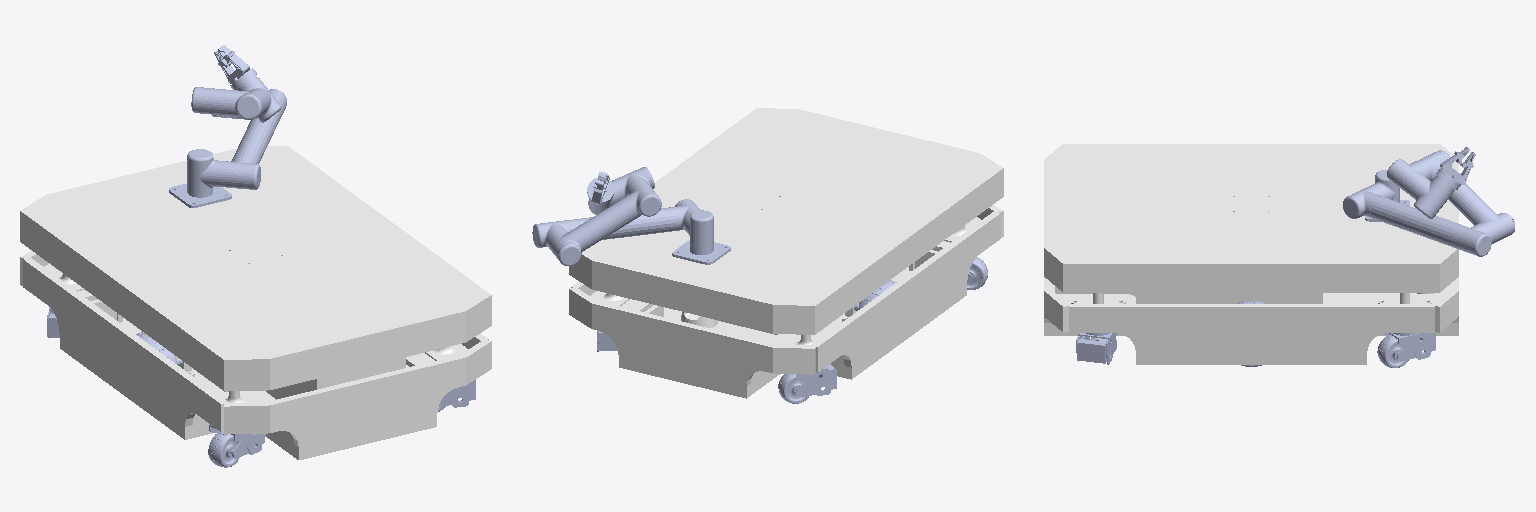
--- What the picture shows (computed from the rendered views, not written in the file) ---
The picture shows the robot from 3 angles, left to right: view 1: azimuth 30°, elevation 25°; view 2: azimuth 150°, elevation 25°; view 3: azimuth 270°, elevation 25°; orthographic projection.
Robot: agvurdf105 — 22 links, 21 joints (11 revolute, 5 continuous, 5 fixed); root link base; default pose: all joints at 0 but 1 set to mid-range because 0 is outside their limits (joint1 = -4).
Visible links, largest first — view 1: base, link2, link1, link3, link4, link6, ur10, bp4, linkbp4, link5, linkbp2; view 2: base, link3, link2, link1, linkbp3, ur10, link6, bp3, link4; view 3: base, link2, link3, link5, linkbp2, linkbp1, link4, link6, bp1.
Link boxes in pixels (x1,y1,x2,y2): base: [20, 146, 491, 459]; link2: [219, 89, 286, 189]; link1: [187, 149, 221, 192]; link3: [191, 87, 244, 119]; link4: [228, 90, 267, 119]; link6: [214, 45, 256, 89]; ur10: [169, 184, 231, 207]; bp4: [208, 432, 238, 467]; linkbp4: [209, 425, 265, 458]; link5: [237, 75, 281, 122]; linkbp2: [439, 380, 475, 407]; base: [569, 108, 1003, 398]; link3: [548, 181, 661, 265]; link2: [532, 199, 699, 248]; link1: [684, 210, 713, 250]; linkbp3: [795, 364, 836, 396]; ur10: [672, 240, 730, 264]; link6: [587, 171, 613, 204]; bp3: [778, 374, 808, 403]; link4: [615, 167, 654, 197]; base: [1044, 144, 1458, 364]; link2: [1343, 186, 1492, 256]; link3: [1418, 150, 1514, 243]; link5: [1411, 175, 1454, 218]; linkbp2: [1076, 333, 1116, 364]; linkbp1: [1384, 332, 1435, 361]; link4: [1387, 159, 1429, 195]; link6: [1436, 147, 1475, 189]; bp1: [1377, 335, 1408, 367].
Size in the robot's own frame: 0.5677 by 0.8754 by 0.4251 metres.
Meshes: 22 distinct files referenced, 22 mesh visuals loaded (22 binary STL).

robot.urdf — agvurdf105:
<?xml version="1.0" encoding="utf-8"?>
<!-- This URDF was automatically created by SolidWorks to URDF Exporter! Originally created by Stephen Brawner ([email redacted]) 
     Commit Version: 1.6.0-1-g15f4949  Build Version: 1.6.7594.29634
     For more information, please see http://wiki.ros.org/sw_urdf_exporter -->
<robot
  name="agvurdf105">
  <link
    name="base">
    <inertial>
      <origin
        xyz="0.267477618334827 -0.656827103060633 0.414562352931217"
        rpy="0 0 0" />
      <mass
        value="19.443300778032" />
      <inertia
        ixx="0.446819644512665"
        ixy="7.04283683372709E-07"
        ixz="2.18700527469743E-08"
        iyy="0.128806910514398"
        iyz="9.53698428759998E-07"
        izz="0.537326846655045" />
    </inertial>
    <visual>
      <origin
        xyz="0 0 0"
        rpy="0 0 0" />
      <geometry>
        <mesh
          filename="package://agvurdf105/meshes/base.STL" />
      </geometry>
      <material
        name="">
        <color
          rgba="1 1 1 1" />
      </material>
    </visual>
    <collision>
      <origin
        xyz="0 0 0"
        rpy="0 0 0" />
      <geometry>
        <mesh
          filename="package://agvurdf105/meshes/base.STL" />
      </geometry>
    </collision>
  </link>
  <link
    name="bchinh1">
    <inertial>
      <origin
        xyz="0.0797674207486164 -5.73364548395183E-07 3.4592532938138E-07"
        rpy="0 0 0" />
      <mass
        value="0.597832815380611" />
      <inertia
        ixx="0.00104674915101719"
        ixy="-3.25283307471418E-09"
        ixz="2.75150350511716E-09"
        iyy="0.000680797544035403"
        iyz="8.27213187136249E-09"
        izz="0.000680816136383611" />
    </inertial>
    <visual>
      <origin
        xyz="0 0 0"
        rpy="0 0 0" />
      <geometry>
        <mesh
          filename="package://agvurdf105/meshes/bchinh1.STL" />
      </geometry>
      <material
        name="">
        <color
          rgba="0.792156862745098 0.819607843137255 0.933333333333333 1" />
      </material>
    </visual>
    <collision>
      <origin
        xyz="0 0 0"
        rpy="0 0 0" />
      <geometry>
        <mesh
          filename="package://agvurdf105/meshes/bchinh1.STL" />
      </geometry>
    </collision>
  </link>
  <joint
    name="banh1"
    type="revolute">
    <origin
      xyz="0.39861 -0.5942 0.38553"
      rpy="2.4972 0 0" />
    <parent
      link="base" />
    <child
      link="bchinh1" />
    <axis
      xyz="1 0 0" />
    <limit
      lower="-4"
      upper="4"
      effort="20"
      velocity="1" />
    <dynamics
      damping="2"
      friction="2" />
  </joint>
  <link
    name="bchinh2">
    <inertial>
      <origin
        xyz="-0.0332325423207638 -5.51442441709682E-07 3.88780041882253E-07"
        rpy="0 0 0" />
      <mass
        value="0.597832236823257" />
      <inertia
        ixx="0.00104674919669424"
        ixy="-3.27522462262069E-09"
        ixz="2.7602611676384E-09"
        iyy="0.000680797594373258"
        iyz="8.29406440059497E-09"
        izz="0.000680816144487321" />
    </inertial>
    <visual>
      <origin
        xyz="0 0 0"
        rpy="0 0 0" />
      <geometry>
        <mesh
          filename="package://agvurdf105/meshes/bchinh2.STL" />
      </geometry>
      <material
        name="">
        <color
          rgba="0.792156862745098 0.819607843137255 0.933333333333333 1" />
      </material>
    </visual>
    <collision>
      <origin
        xyz="0 0 0"
        rpy="0 0 0" />
      <geometry>
        <mesh
          filename="package://agvurdf105/meshes/bchinh2.STL" />
      </geometry>
    </collision>
  </link>
  <joint
    name="banh2"
    type="revolute">
    <origin
      xyz="0.025614 -0.5942 0.38553"
      rpy="-3.1224 0 3.1416" />
    <parent
      link="base" />
    <child
      link="bchinh2" />
    <axis
      xyz="1 0 0" />
    <limit
      lower="-4"
      upper="4"
      effort="20"
      velocity="1" />
    <dynamics
      damping="2"
      friction="2" />
  </joint>
  <link
    name="bphu1">
    <inertial>
      <origin
        xyz="0 -0.00173512867251724 0"
        rpy="0 0 0" />
      <mass
        value="0.048165597678071" />
      <inertia
        ixx="2.23785467678531E-05"
        ixy="-4.1282822947913E-23"
        ixz="-3.3292548367986E-20"
        iyy="5.64406148404847E-05"
        iyz="1.01819135798511E-23"
        izz="3.61208137584202E-05" />
    </inertial>
    <visual>
      <origin
        xyz="0 0 0"
        rpy="0 0 0" />
      <geometry>
        <mesh
          filename="package://agvurdf105/meshes/bphu1.STL" />
      </geometry>
      <material
        name="">
        <color
          rgba="0.792156862745098 0.819607843137255 0.933333333333333 1" />
      </material>
    </visual>
    <collision>
      <origin
        xyz="0 0 0"
        rpy="0 0 0" />
      <geometry>
        <mesh
          filename="package://agvurdf105/meshes/bphu1.STL" />
      </geometry>
    </collision>
  </link>
  <joint
    name="banhp1"
    type="fixed">
    <origin
      xyz="0.47611 -0.3092 0.41953"
      rpy="1.5708 0 1.5708" />
    <parent
      link="base" />
    <child
      link="bphu1" />
    <axis
      xyz="0 0 0" />
  </joint>
  <link
    name="linkbp1">
    <inertial>
      <origin
        xyz="-0.00617677641709502 -0.0358398173875589 0.00518685509486075"
        rpy="0 0 0" />
      <mass
        value="0.114257387372318" />
      <inertia
        ixx="6.34571166352206E-05"
        ixy="-3.62439447488159E-06"
        ixz="-2.34583618434929E-07"
        iyy="8.05860290746564E-05"
        iyz="-5.080649693722E-07"
        izz="5.9910521336905E-05" />
    </inertial>
    <visual>
      <origin
        xyz="0 0 0"
        rpy="0 0 0" />
      <geometry>
        <mesh
          filename="package://agvurdf105/meshes/linkbp1.STL" />
      </geometry>
      <material
        name="">
        <color
          rgba="0.792156862745098 0.819607843137255 0.933333333333333 1" />
      </material>
    </visual>
    <collision>
      <origin
        xyz="0 0 0"
        rpy="0 0 0" />
      <geometry>
        <mesh
          filename="package://agvurdf105/meshes/linkbp1.STL" />
      </geometry>
    </collision>
  </link>
  <joint
    name="jbp1"
    type="continuous">
    <origin
      xyz="0.01 0 0"
      rpy="3.14159265358979 -0.547967558025908 3.14159265358979" />
    <parent
      link="bphu1" />
    <child
      link="linkbp1" />
    <axis
      xyz="0 1 0" />
  </joint>
  <link
    name="bp1">
    <inertial>
      <origin
        xyz="0.00548428858717928 9.97438591721078E-08 -7.52742982057519E-07"
        rpy="0 0 0" />
      <mass
        value="0.0726271521733352" />
      <inertia
        ixx="3.58320530073967E-05"
        ixy="1.1750871191831E-10"
        ixz="-9.14672268149594E-11"
        iyy="2.23018430138028E-05"
        iyz="-2.03994864241253E-10"
        izz="2.23019031302214E-05" />
    </inertial>
    <visual>
      <origin
        xyz="0 0 0"
        rpy="0 0 0" />
      <geometry>
        <mesh
          filename="package://agvurdf105/meshes/bp1.STL" />
      </geometry>
      <material
        name="">
        <color
          rgba="0.792156862745098 0.819607843137255 0.933333333333333 1" />
      </material>
    </visual>
    <collision>
      <origin
        xyz="0 0 0"
        rpy="0 0 0" />
      <geometry>
        <mesh
          filename="package://agvurdf105/meshes/bp1.STL" />
      </geometry>
    </collision>
  </link>
  <joint
    name="bp1"
    type="revolute">
    <origin
      xyz="0.031036 -0.06543 0"
      rpy="0.29396 -1.5708 -0.29568" />
    <parent
      link="linkbp1" />
    <child
      link="bp1" />
    <axis
      xyz="1 0 0" />
    <limit
      lower="-4"
      upper="4"
      effort="0"
      velocity="0" />
  </joint>
  <link
    name="bphu2">
    <inertial>
      <origin
        xyz="1.11022302462516E-16 -0.00173512867251724 0"
        rpy="0 0 0" />
      <mass
        value="0.048165597678071" />
      <inertia
        ixx="2.23785467678531E-05"
        ixy="-7.91930310749027E-23"
        ixz="-2.27241722811059E-19"
        iyy="5.64406148404846E-05"
        iyz="2.28409602871977E-23"
        izz="3.61208137584202E-05" />
    </inertial>
    <visual>
      <origin
        xyz="0 0 0"
        rpy="0 0 0" />
      <geometry>
        <mesh
          filename="package://agvurdf105/meshes/bphu2.STL" />
      </geometry>
      <material
        name="">
        <color
          rgba="0.792156862745098 0.819607843137255 0.933333333333333 1" />
      </material>
    </visual>
    <collision>
      <origin
        xyz="0 0 0"
        rpy="0 0 0" />
      <geometry>
        <mesh
          filename="package://agvurdf105/meshes/bphu2.STL" />
      </geometry>
    </collision>
  </link>
  <joint
    name="banhp2"
    type="fixed">
    <origin
      xyz="0.476113744053953 -0.879202901304281 0.419533078366042"
      rpy="1.5707963267949 0 1.5707963267949" />
    <parent
      link="base" />
    <child
      link="bphu2" />
    <axis
      xyz="0 0 0" />
  </joint>
  <link
    name="linkbp2">
    <inertial>
      <origin
        xyz="-0.0173963547118563 -0.0358398173875772 -0.00965583082141919"
        rpy="0 0 0" />
      <mass
        value="0.114257387372318" />
      <inertia
        ixx="6.34571166352199E-05"
        ixy="-3.62439447488278E-06"
        ixz="-2.34583618434789E-07"
        iyy="8.05860290746565E-05"
        iyz="-5.08064969372119E-07"
        izz="5.99105213369047E-05" />
    </inertial>
    <visual>
      <origin
        xyz="0 0 0"
        rpy="0 0 0" />
      <geometry>
        <mesh
          filename="package://agvurdf105/meshes/linkbp2.STL" />
      </geometry>
      <material
        name="">
        <color
          rgba="0.792156862745098 0.819607843137255 0.933333333333333 1" />
      </material>
    </visual>
    <collision>
      <origin
        xyz="0 0 0"
        rpy="0 0 0" />
      <geometry>
        <mesh
          filename="package://agvurdf105/meshes/linkbp2.STL" />
      </geometry>
    </collision>
  </link>
  <joint
    name="jbp2"
    type="continuous">
    <origin
      xyz="0.01 0 0"
      rpy="0 1.29909292552263 0" />
    <parent
      link="bphu2" />
    <child
      link="linkbp2" />
    <axis
      xyz="0 1 0" />
  </joint>
  <link
    name="bp2">
    <inertial>
      <origin
        xyz="-0.0093583982201465 9.55880134489995E-08 -7.51185361358431E-07"
        rpy="0 0 0" />
      <mass
        value="0.0726271557950019" />
      <inertia
        ixx="3.58320539848372E-05"
        ixy="1.19126244069086E-10"
        ixz="-9.08342456740752E-11"
        iyy="2.23018408664583E-05"
        iyz="-2.12021323796501E-10"
        izz="2.23019063481509E-05" />
    </inertial>
    <visual>
      <origin
        xyz="0 0 0"
        rpy="0 0 0" />
      <geometry>
        <mesh
          filename="package://agvurdf105/meshes/bp2.STL" />
      </geometry>
      <material
        name="">
        <color
          rgba="0.792156862745098 0.819607843137255 0.933333333333333 1" />
      </material>
    </visual>
    <collision>
      <origin
        xyz="0 0 0"
        rpy="0 0 0" />
      <geometry>
        <mesh
          filename="package://agvurdf105/meshes/bp2.STL" />
      </geometry>
    </collision>
  </link>
  <joint
    name="bp2"
    type="revolute">
    <origin
      xyz="0.0198162726250184 -0.0654300000000542 0"
      rpy="0.133952495949054 -1.5707963267949 0" />
    <parent
      link="linkbp2" />
    <child
      link="bp2" />
    <axis
      xyz="1 0 0" />
    <limit
      lower="-4"
      upper="4"
      effort="0"
      velocity="0" />
  </joint>
  <link
    name="bphu3">
    <inertial>
      <origin
        xyz="0 -0.00173512867251724 0"
        rpy="0 0 0" />
      <mass
        value="0.048165597678071" />
      <inertia
        ixx="2.23785467678531E-05"
        ixy="4.89452027298181E-23"
        ixz="-4.58690116376147E-20"
        iyy="5.64406148404847E-05"
        iyz="6.50103152319964E-24"
        izz="3.61208137584202E-05" />
    </inertial>
    <visual>
      <origin
        xyz="0 0 0"
        rpy="0 0 0" />
      <geometry>
        <mesh
          filename="package://agvurdf105/meshes/bphu3.STL" />
      </geometry>
      <material
        name="">
        <color
          rgba="0.792156862745098 0.819607843137255 0.933333333333333 1" />
      </material>
    </visual>
    <collision>
      <origin
        xyz="0 0 0"
        rpy="0 0 0" />
      <geometry>
        <mesh
          filename="package://agvurdf105/meshes/bphu3.STL" />
      </geometry>
    </collision>
  </link>
  <joint
    name="banhp3"
    type="fixed">
    <origin
      xyz="0.0611137440539526 -0.309202901304281 0.419533078366042"
      rpy="1.5707963267949 0 1.5707963267949" />
    <parent
      link="base" />
    <child
      link="bphu3" />
    <axis
      xyz="0 0 0" />
  </joint>
  <link
    name="linkbp3">
    <inertial>
      <origin
        xyz="-0.0226154519084126 -0.0358398173875543 0.0049167107004528"
        rpy="0 0 0" />
      <mass
        value="0.114257387372317" />
      <inertia
        ixx="6.34571166352197E-05"
        ixy="-3.62439447488186E-06"
        ixz="-2.34583618434877E-07"
        iyy="8.05860290746559E-05"
        iyz="-5.08064969372411E-07"
        izz="5.99105213369042E-05" />
    </inertial>
    <visual>
      <origin
        xyz="0 0 0"
        rpy="0 0 0" />
      <geometry>
        <mesh
          filename="package://agvurdf105/meshes/linkbp3.STL" />
      </geometry>
      <material
        name="">
        <color
          rgba="0.792156862745098 0.819607843137255 0.933333333333333 1" />
      </material>
    </visual>
    <collision>
      <origin
        xyz="0 0 0"
        rpy="0 0 0" />
      <geometry>
        <mesh
          filename="package://agvurdf105/meshes/linkbp3.STL" />
      </geometry>
    </collision>
  </link>
  <joint
    name="jbp3"
    type="continuous">
    <origin
      xyz="0.01 0 0"
      rpy="0 -0.659526494459053 0" />
    <parent
      link="bphu3" />
    <child
      link="linkbp3" />
    <axis
      xyz="0 1 0" />
  </joint>
  <link
    name="bp3">
    <inertial>
      <origin
        xyz="0.00340218074527618 9.7061702619694E-08 -7.51595165493502E-07"
        rpy="0 0 0" />
      <mass
        value="0.0726271555796053" />
      <inertia
        ixx="3.58320539433918E-05"
        ixy="1.18513839971375E-10"
        ixz="-9.11230038687106E-11"
        iyy="2.23018421047147E-05"
        iyz="-2.09174145745195E-10"
        izz="2.23019050543166E-05" />
    </inertial>
    <visual>
      <origin
        xyz="0 0 0"
        rpy="0 0 0" />
      <geometry>
        <mesh
          filename="package://agvurdf105/meshes/bp3.STL" />
      </geometry>
      <material
        name="">
        <color
          rgba="0.792156862745098 0.819607843137255 0.933333333333333 1" />
      </material>
    </visual>
    <collision>
      <origin
        xyz="0 0 0"
        rpy="0 0 0" />
      <geometry>
        <mesh
          filename="package://agvurdf105/meshes/bp3.STL" />
      </geometry>
    </collision>
  </link>
  <joint
    name="bp3"
    type="revolute">
    <origin
      xyz="0.0145971754284785 -0.0654300000000004 0"
      rpy="3.05625695459658 -1.5707963267949 0" />
    <parent
      link="linkbp3" />
    <child
      link="bp3" />
    <axis
      xyz="1 0 0" />
    <limit
      lower="-4"
      upper="4"
      effort="0"
      velocity="0" />
  </joint>
  <link
    name="bphu4">
    <inertial>
      <origin
        xyz="-2.22044604925031E-16 -0.00173512867251718 6.93889390390723E-18"
        rpy="0 0 0" />
      <mass
        value="0.048165597678071" />
      <inertia
        ixx="2.23785467678531E-05"
        ixy="6.92044003096395E-23"
        ixz="-4.57017288435548E-20"
        iyy="5.64406148404847E-05"
        iyz="2.89501199341393E-23"
        izz="3.61208137584202E-05" />
    </inertial>
    <visual>
      <origin
        xyz="0 0 0"
        rpy="0 0 0" />
      <geometry>
        <mesh
          filename="package://agvurdf105/meshes/bphu4.STL" />
      </geometry>
      <material
        name="">
        <color
          rgba="0.792156862745098 0.819607843137255 0.933333333333333 1" />
      </material>
    </visual>
    <collision>
      <origin
        xyz="0 0 0"
        rpy="0 0 0" />
      <geometry>
        <mesh
          filename="package://agvurdf105/meshes/bphu4.STL" />
      </geometry>
    </collision>
  </link>
  <joint
    name="banhp4"
    type="fixed">
    <origin
      xyz="0.0611137440539523 -0.879202901304281 0.419533078366042"
      rpy="1.5707963267949 0 1.5707963267949" />
    <parent
      link="base" />
    <child
      link="bphu4" />
    <axis
      xyz="0 0 0" />
  </joint>
  <link
    name="linkbp4">
    <inertial>
      <origin
        xyz="-0.011570457547936 -0.0358398173875539 -0.00951619128780645"
        rpy="0 0 0" />
      <mass
        value="0.114257387372317" />
      <inertia
        ixx="6.34571166352197E-05"
        ixy="-3.62439447488175E-06"
        ixz="-2.34583618435016E-07"
        iyy="8.0586029074656E-05"
        iyz="-5.08064969372299E-07"
        izz="5.99105213369044E-05" />
    </inertial>
    <visual>
      <origin
        xyz="0 0 0"
        rpy="0 0 0" />
      <geometry>
        <mesh
          filename="package://agvurdf105/meshes/linkbp4.STL" />
      </geometry>
      <material
        name="">
        <color
          rgba="0.792156862745098 0.819607843137255 0.933333333333333 1" />
      </material>
    </visual>
    <collision>
      <origin
        xyz="0 0 0"
        rpy="0 0 0" />
      <geometry>
        <mesh
          filename="package://agvurdf105/meshes/linkbp4.STL" />
      </geometry>
    </collision>
  </link>
  <joint
    name="jbp4"
    type="continuous">
    <origin
      xyz="0.01 0 0"
      rpy="3.14159265358979 1.25116458148953 3.14159265358979" />
    <parent
      link="bphu4" />
    <child
      link="linkbp4" />
    <axis
      xyz="0 1 0" />
  </joint>
  <link
    name="bp4">
    <inertial>
      <origin
        xyz="-0.00921875829826735 9.78950709384918E-08 -7.47259863570493E-07"
        rpy="0 0 0" />
      <mass
        value="0.0726271892907674" />
      <inertia
        ixx="3.5832064033052E-05"
        ixy="1.16893406243337E-10"
        ixz="-9.33203659717243E-11"
        iyy="2.23018579639734E-05"
        iyz="-2.0746977069453E-10"
        izz="2.23018998695872E-05" />
    </inertial>
    <visual>
      <origin
        xyz="0 0 0"
        rpy="0 0 0" />
      <geometry>
        <mesh
          filename="package://agvurdf105/meshes/bp4.STL" />
      </geometry>
      <material
        name="">
        <color
          rgba="0.792156862745098 0.819607843137255 0.933333333333333 1" />
      </material>
    </visual>
    <collision>
      <origin
        xyz="0 0 0"
        rpy="0 0 0" />
      <geometry>
        <mesh
          filename="package://agvurdf105/meshes/bp4.STL" />
      </geometry>
    </collision>
  </link>
  <joint
    name="bp4"
    type="revolute">
    <origin
      xyz="0.0256421697889556 -0.0654299999999998 0"
      rpy="2.26327581951186 -1.5707963267949 0" />
    <parent
      link="linkbp4" />
    <child
      link="bp4" />
    <axis
      xyz="1 0 0" />
    <limit
      lower="-4"
      upper="4"
      effort="0"
      velocity="0" />
  </joint>
  <link
    name="ur10">
    <inertial>
      <origin
        xyz="-2.77555756156289E-16 0.00230257693813485 -1.11022302462516E-16"
        rpy="0 0 0" />
      <mass
        value="0.0364089378591594" />
      <inertia
        ixx="2.1029948904954E-05"
        ixy="2.41261439305053E-21"
        ixz="-3.18981523715751E-20"
        iyy="4.18104005460012E-05"
        iyz="6.99182024269061E-22"
        izz="2.1029948904954E-05" />
    </inertial>
    <visual>
      <origin
        xyz="0 0 0"
        rpy="0 0 0" />
      <geometry>
        <mesh
          filename="package://agvurdf105/meshes/ur10.STL" />
      </geometry>
      <material
        name="">
        <color
          rgba="0.792156862745098 0.819607843137255 0.933333333333333 1" />
      </material>
    </visual>
    <collision>
      <origin
        xyz="0 0 0"
        rpy="0 0 0" />
      <geometry>
        <mesh
          filename="package://agvurdf105/meshes/ur10.STL" />
      </geometry>
    </collision>
  </link>
  <joint
    name="ur"
    type="fixed">
    <origin
      xyz="0.304113744053951 -0.341702901304287 0.559533078366042"
      rpy="-1.5707963267949 0 1.5707963267949" />
    <parent
      link="base" />
    <child
      link="ur10" />
    <axis
      xyz="0 0 0" />
  </joint>
  <link
    name="link1">
    <inertial>
      <origin
        xyz="0.00242858722447592 -0.0468552073229127 1.02546085278821E-06"
        rpy="0 0 0" />
      <mass
        value="0.0284317625502586" />
      <inertia
        ixx="1.3042832010191E-05"
        ixy="1.71082117518441E-07"
        ixz="-1.29379473745037E-10"
        iyy="1.34492369003028E-05"
        iyz="4.203094470609E-11"
        izz="1.40510841682619E-05" />
    </inertial>
    <visual>
      <origin
        xyz="0 0 0"
        rpy="0 0 0" />
      <geometry>
        <mesh
          filename="package://agvurdf105/meshes/link1.STL" />
      </geometry>
      <material
        name="">
        <color
          rgba="0.792156862745098 0.819607843137255 0.929411764705882 1" />
      </material>
    </visual>
    <collision>
      <origin
        xyz="0 0 0"
        rpy="0 0 0" />
      <geometry>
        <mesh
          filename="package://agvurdf105/meshes/link1.STL" />
      </geometry>
    </collision>
  </link>
  <joint
    name="joint1"
    type="revolute">
    <origin
      xyz="0 0 0"
      rpy="0 0.016264 0" />
    <parent
      link="ur10" />
    <child
      link="link1" />
    <axis
      xyz="0 1 0" />
    <limit
      lower="-4"
      upper="-4"
      effort="5"
      velocity="1" />
    <dynamics
      damping="1"
      friction="1" />
  </joint>
  <link
    name="link2">
    <inertial>
      <origin
        xyz="0.138826186828985 -0.0394636139180599 5.26657159549693E-07"
        rpy="0 0 0" />
      <mass
        value="0.113010122911117" />
      <inertia
        ixx="5.24555107635127E-05"
        ixy="-1.62877854258062E-13"
        ixz="-1.63925720161292E-10"
        iyy="0.000242437230724777"
        iyz="-8.98067013148655E-11"
        izz="0.000244047323028022" />
    </inertial>
    <visual>
      <origin
        xyz="0 0 0"
        rpy="0 0 0" />
      <geometry>
        <mesh
          filename="package://agvurdf105/meshes/link2.STL" />
      </geometry>
      <material
        name="">
        <color
          rgba="0.792156862745098 0.819607843137255 0.929411764705882 1" />
      </material>
    </visual>
    <collision>
      <origin
        xyz="0 0 0"
        rpy="0 0 0" />
      <geometry>
        <mesh
          filename="package://agvurdf105/meshes/link2.STL" />
      </geometry>
    </collision>
  </link>
  <joint
    name="link2"
    type="revolute">
    <origin
      xyz="0.030153 -0.038 0"
      rpy="-3.1416 -1.5549 -1.5708" />
    <parent
      link="link1" />
    <child
      link="link2" />
    <axis
      xyz="0 1 0" />
    <limit
      lower="-4"
      upper="4"
      effort="5"
      velocity="1" />
    <dynamics
      damping="1"
      friction="1" />
  </joint>
  <link
    name="link3">
    <inertial>
      <origin
        xyz="0.0879999798348363 -0.0360093769077456 1.81950632338612E-09"
        rpy="0 0 0" />
      <mass
        value="0.0859900430348366" />
      <inertia
        ixx="3.95330431699021E-05"
        ixy="-1.68522030387062E-12"
        ixz="-2.30230525675319E-10"
        iyy="6.23043235535729E-05"
        iyz="5.23201741931218E-13"
        izz="6.35080797286195E-05" />
    </inertial>
    <visual>
      <origin
        xyz="0 0 0"
        rpy="0 0 0" />
      <geometry>
        <mesh
          filename="package://agvurdf105/meshes/link3.STL" />
      </geometry>
      <material
        name="">
        <color
          rgba="0.792156862745098 0.819607843137255 0.929411764705882 1" />
      </material>
    </visual>
    <collision>
      <origin
        xyz="0 0 0"
        rpy="0 0 0" />
      <geometry>
        <mesh
          filename="package://agvurdf105/meshes/link3.STL" />
      </geometry>
    </collision>
  </link>
  <joint
    name="joint3"
    type="revolute">
    <origin
      xyz="0.268 0 0"
      rpy="0 -0.48155 3.1416" />
    <parent
      link="link2" />
    <child
      link="link3" />
    <axis
      xyz="0 1 0" />
    <limit
      lower="-4"
      upper="4"
      effort="5"
      velocity="1" />
    <dynamics
      damping="1"
      friction="1" />
  </joint>
  <link
    name="link4">
    <inertial>
      <origin
        xyz="-0.0354180125232937 -0.00885524035123031 7.12365106125823E-07"
        rpy="0 0 0" />
      <mass
        value="0.0284318140111737" />
      <inertia
        ixx="1.3042834106626E-05"
        ixy="1.71083517369247E-07"
        ixz="-1.30461660946876E-10"
        iyy="1.34492359647408E-05"
        iyz="4.1322950347688E-11"
        izz="1.40510825305489E-05" />
    </inertial>
    <visual>
      <origin
        xyz="0 0 0"
        rpy="0 0 0" />
      <geometry>
        <mesh
          filename="package://agvurdf105/meshes/link4.STL" />
      </geometry>
      <material
        name="">
        <color
          rgba="0.792156862745098 0.819607843137255 0.929411764705882 1" />
      </material>
    </visual>
    <collision>
      <origin
        xyz="0 0 0"
        rpy="0 0 0" />
      <geometry>
        <mesh
          filename="package://agvurdf105/meshes/link4.STL" />
      </geometry>
    </collision>
  </link>
  <joint
    name="link4"
    type="revolute">
    <origin
      xyz="0.176 0 0"
      rpy="2.9798 0 -1.5708" />
    <parent
      link="link3" />
    <child
      link="link4" />
    <axis
      xyz="1 0 0" />
    <limit
      lower="-4"
      upper="4"
      effort="5"
      velocity="1" />
    <dynamics
      damping="1"
      friction="1" />
  </joint>
  <link
    name="link5">
    <inertial>
      <origin
        xyz="-0.0592529742467944 -0.00885534780552188 8.04216093691634E-07"
        rpy="0 0 0" />
      <mass
        value="0.028431823893689" />
      <inertia
        ixx="1.3042830449628E-05"
        ixy="1.71088974162542E-07"
        ixz="-1.08530773672595E-10"
        iyy="1.34492292023672E-05"
        iyz="3.59051680226573E-11"
        izz="1.4051075325679E-05" />
    </inertial>
    <visual>
      <origin
        xyz="0 0 0"
        rpy="0 0 0" />
      <geometry>
        <mesh
          filename="package://agvurdf105/meshes/link5.STL" />
      </geometry>
      <material
        name="">
        <color
          rgba="0.792156862745098 0.819607843137255 0.929411764705882 1" />
      </material>
    </visual>
    <collision>
      <origin
        xyz="0 0 0"
        rpy="0 0 0" />
      <geometry>
        <mesh
          filename="package://agvurdf105/meshes/link5.STL" />
      </geometry>
    </collision>
  </link>
  <joint
    name="joint5"
    type="revolute">
    <origin
      xyz="-0.037847 0.0063182 0"
      rpy="-0.81837 0 -1.5708" />
    <parent
      link="link4" />
    <child
      link="link5" />
    <axis
      xyz="1 0 0" />
    <limit
      lower="-4"
      upper="4"
      effort="5"
      velocity="1" />
    <dynamics
      damping="1"
      friction="1" />
  </joint>
  <link
    name="link6">
    <inertial>
      <origin
        xyz="-3.10862446895044E-15 -0.0545242147827427 3.15025783237388E-15"
        rpy="0 0 0" />
      <mass
        value="0.0513526297501136" />
      <inertia
        ixx="1.0370435669401E-05"
        ixy="3.3881317890172E-21"
        ixz="1.70084455820654E-08"
        iyy="1.13707562195693E-05"
        iyz="2.5410988417629E-21"
        izz="1.10689654210708E-05" />
    </inertial>
    <visual>
      <origin
        xyz="0 0 0"
        rpy="0 0 0" />
      <geometry>
        <mesh
          filename="package://agvurdf105/meshes/link6.STL" />
      </geometry>
      <material
        name="">
        <color
          rgba="0.792156862745098 0.819607843137255 0.929411764705882 1" />
      </material>
    </visual>
    <collision>
      <origin
        xyz="0 0 0"
        rpy="0 0 0" />
      <geometry>
        <mesh
          filename="package://agvurdf105/meshes/link6.STL" />
      </geometry>
    </collision>
  </link>
  <joint
    name="joint6"
    type="continuous">
    <origin
      xyz="-0.061682 0 0"
      rpy="0 -0.82334 -3.1416" />
    <parent
      link="link5" />
    <child
      link="link6" />
    <axis
      xyz="0 1 0" />
    <limit
      lower="-4"
      upper="4"
      effort="5"
      velocity="1" />
    <dynamics
      damping="1"
      friction="1" />
  </joint>
</robot>
